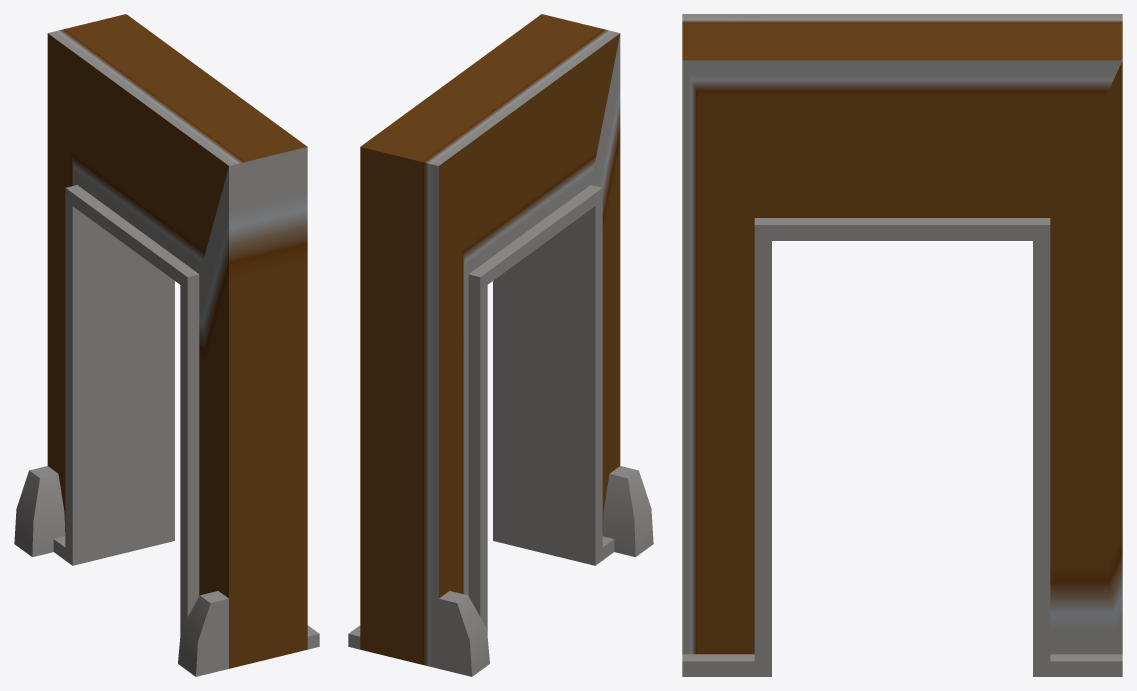
File: SM_Wall_Doorframe_NoTop.fbx
3 renders of one model, left to right at view 1: azimuth 30°, elevation 25°; view 2: azimuth 150°, elevation 25°; view 3: azimuth 270°, elevation 25°, orthographic. The views are drawn at different scales.
Visible parts, largest first — view 1: SM_Wall_Doorframe_NoTop; view 2: SM_Wall_Doorframe_NoTop; view 3: SM_Wall_Doorframe_NoTop.
Part boxes in pixels (x1=…): SM_Wall_Doorframe_NoTop: x1=14, y1=14, x2=319, y2=676; SM_Wall_Doorframe_NoTop: x1=348, y1=14, x2=653, y2=676; SM_Wall_Doorframe_NoTop: x1=682, y1=14, x2=1122, y2=676.
Bounding box in the file's own units: 78.71 × 306 × 200.
